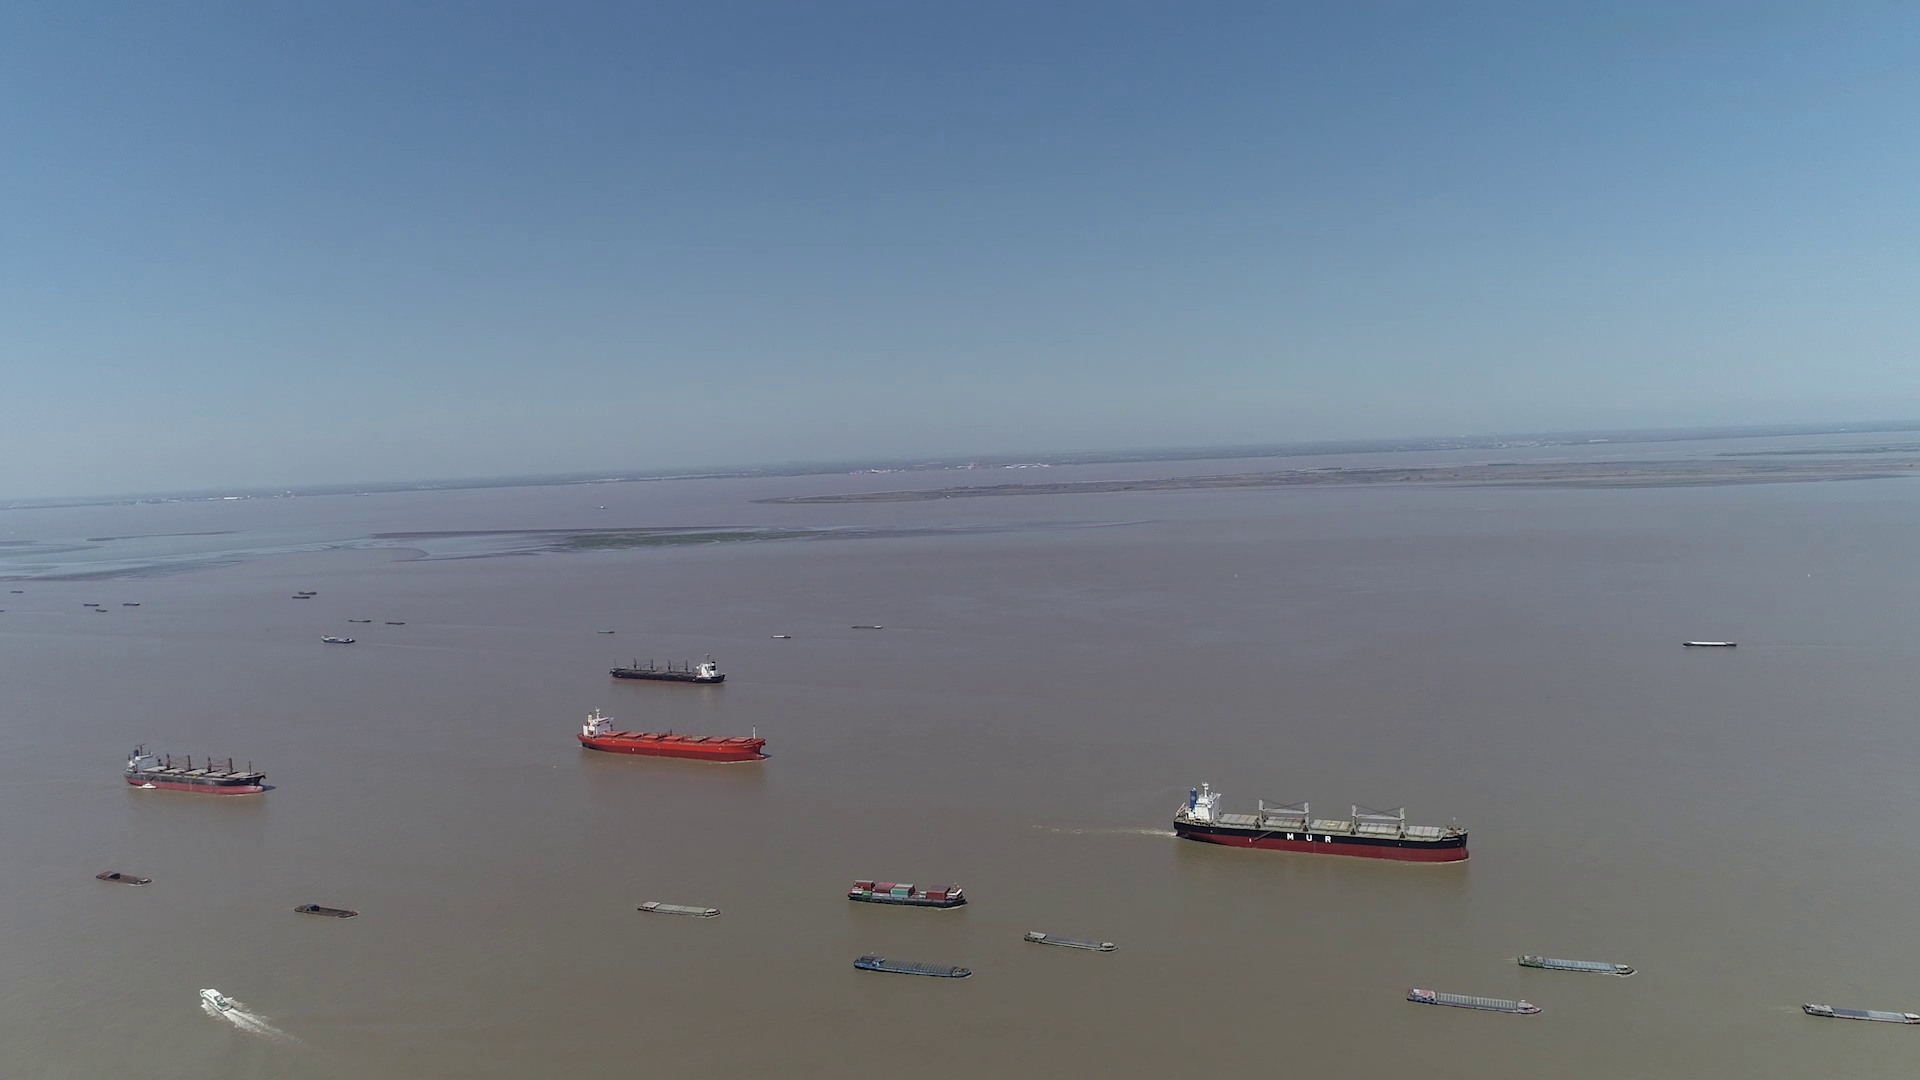ship: (1174, 785, 1473, 862), (578, 708, 766, 762), (127, 745, 266, 796), (1407, 986, 1540, 1015), (849, 878, 967, 910), (609, 655, 725, 683), (855, 955, 973, 977), (1804, 1002, 1920, 1025), (1516, 953, 1634, 975), (1025, 928, 1118, 952), (637, 901, 723, 918), (94, 870, 152, 886), (198, 988, 236, 1011), (293, 905, 353, 919), (1685, 640, 1737, 647), (319, 634, 353, 644)
